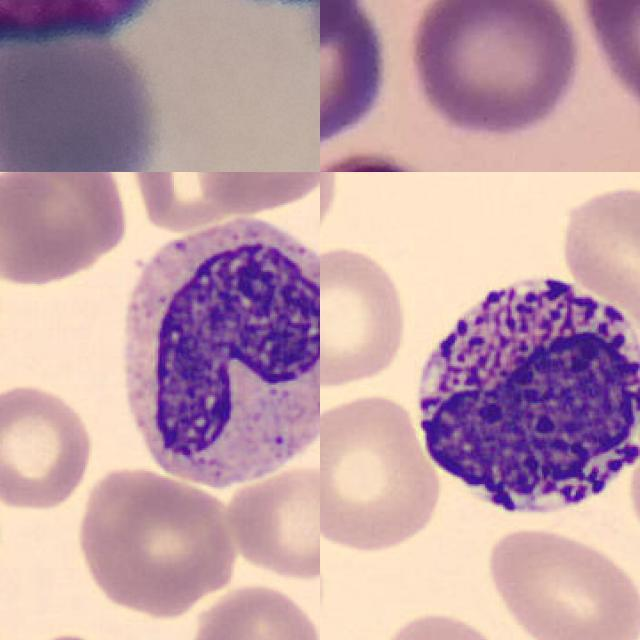Basophil: (405, 260, 640, 535)
Lymphocyte: (104, 201, 320, 499)
RBC: (71, 468, 243, 616), (320, 387, 446, 554), (481, 526, 640, 640), (0, 172, 131, 289), (320, 242, 412, 390), (554, 180, 640, 332), (0, 379, 97, 513), (223, 460, 320, 582), (190, 582, 320, 640), (186, 172, 320, 215), (369, 605, 515, 640), (0, 628, 142, 640)
